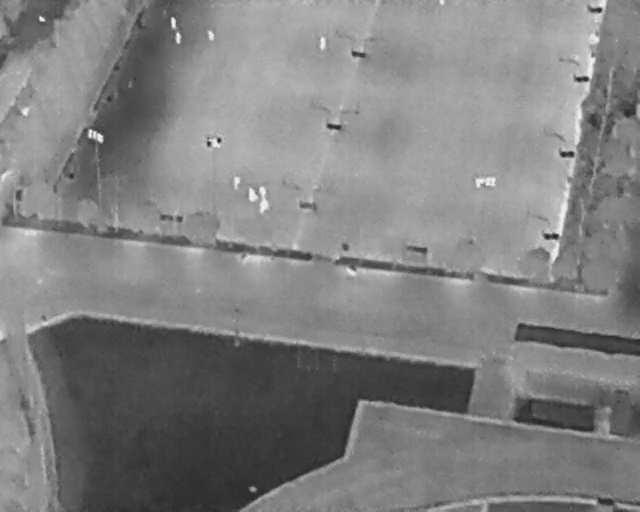Person: (248, 186, 258, 202), (260, 199, 270, 214), (259, 185, 267, 199), (319, 36, 327, 50), (233, 175, 240, 190), (207, 29, 215, 41), (175, 32, 182, 45), (170, 17, 177, 29)
